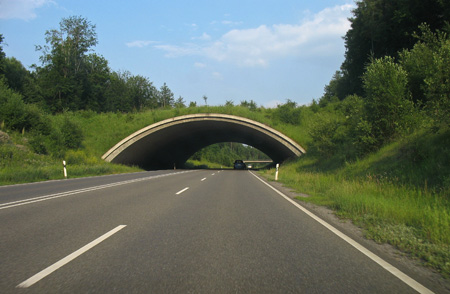bridge: (99, 111, 308, 163)
